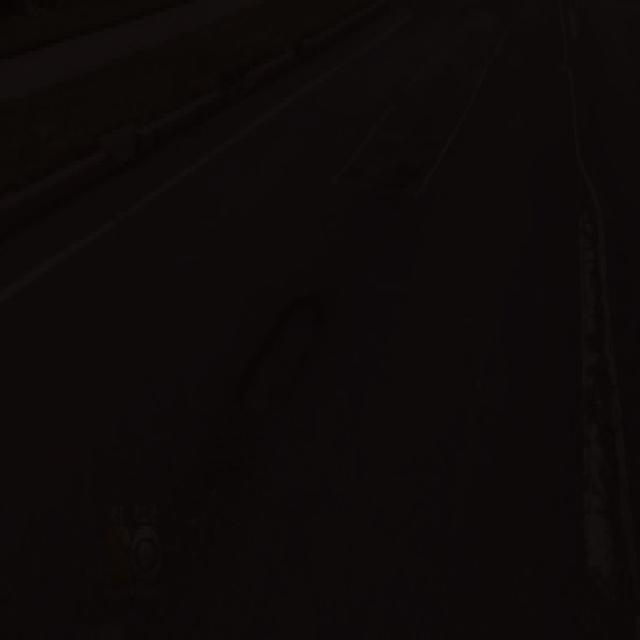Pothole: (565, 188, 629, 611), (223, 291, 335, 421), (358, 110, 449, 204)
